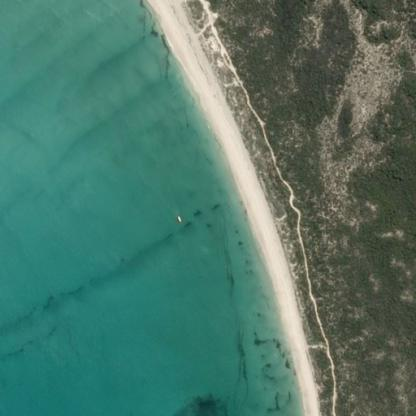ship: (10, 214, 14, 219)
